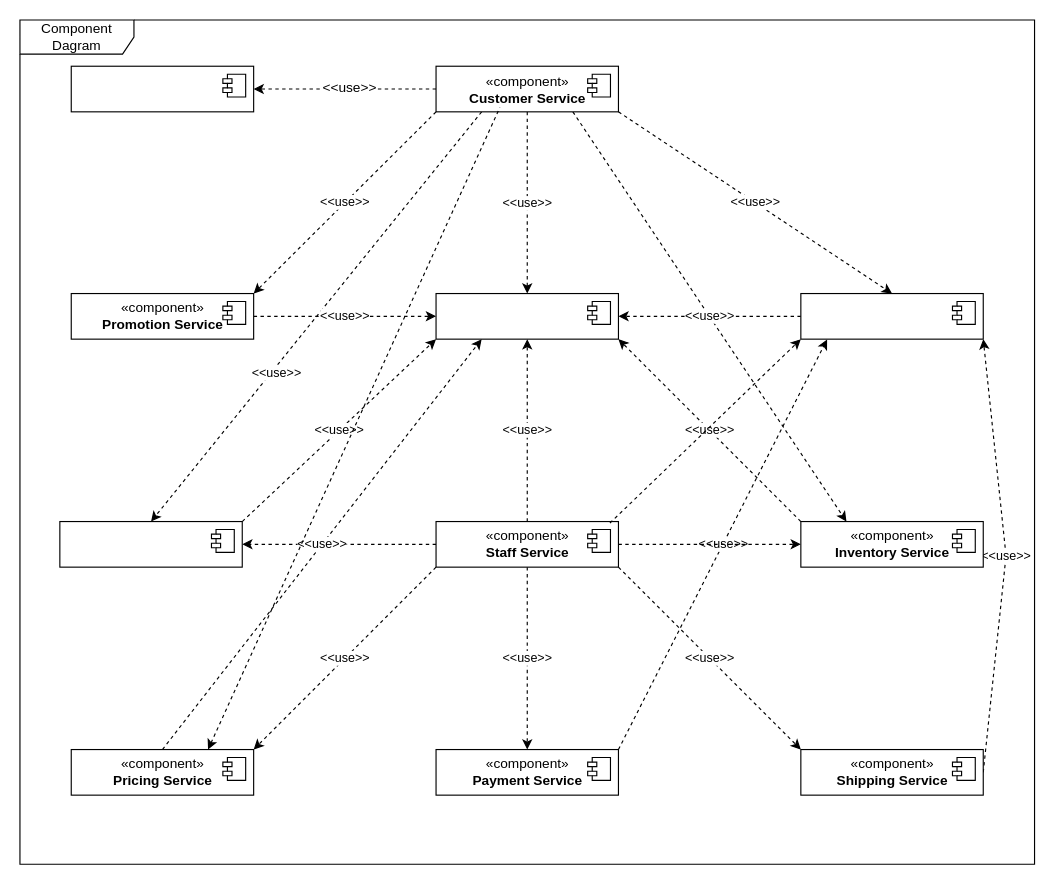
The diagram is 1055 pixels wide and 885 high, and some of its shapes have lost their labels. The centre of each missing label's shape, as x and y in pixels:
"«component» Authentication Service" belongs at pixel 162 88.
"«component» Catalog Service" belongs at pixel 526 315.
"«component» Order Service" belongs at pixel 891 315.
"«component» Search Service" belongs at pixel 150 543.
